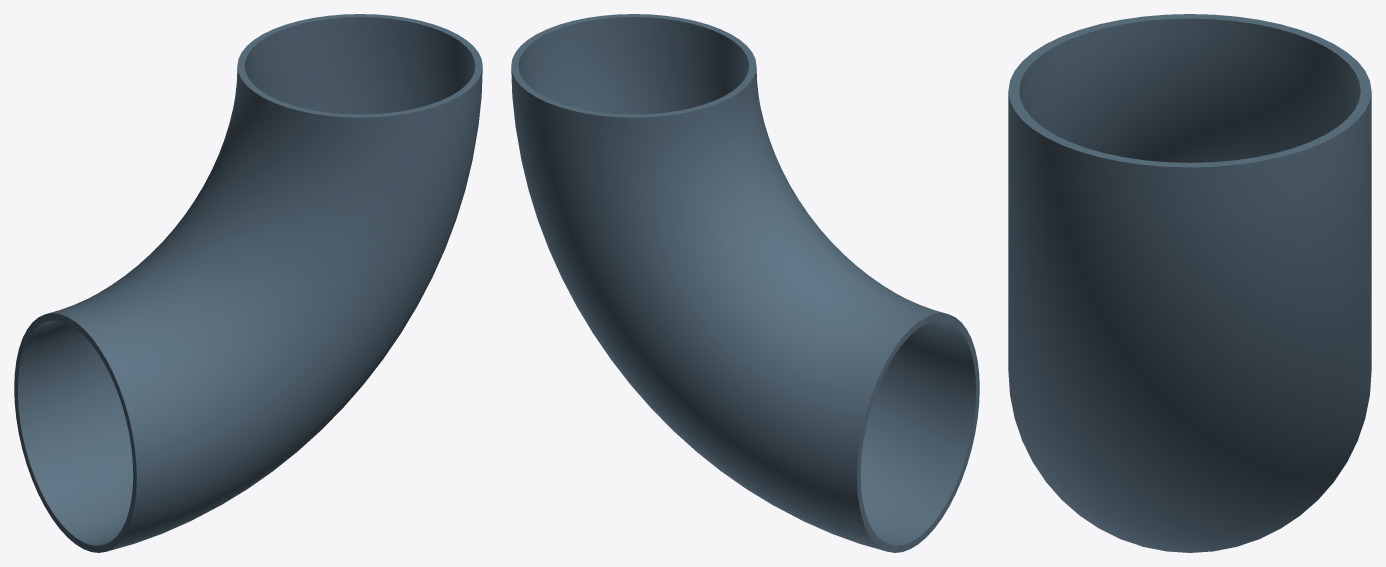
File: otvod-90-168x5-R225.glb
3 views of the same model, side by side, from view 1: azimuth 30°, elevation 25°; view 2: azimuth 150°, elevation 25°; view 3: azimuth 270°, elevation 25° (orthographic). The views are drawn at different scales.
Visible parts, largest first — view 1: Open CASCADE STEP translator 7.9 60; view 2: Open CASCADE STEP translator 7.9 60; view 3: Open CASCADE STEP translator 7.9 60.
Boxes of the visible parts, x1,y1,x2,y2 form: Open CASCADE STEP translator 7.9 60: (14,14,482,552); Open CASCADE STEP translator 7.9 60: (511,14,979,552); Open CASCADE STEP translator 7.9 60: (1008,14,1371,552).
Size of the model in its own units: 309 by 309 by 168.
